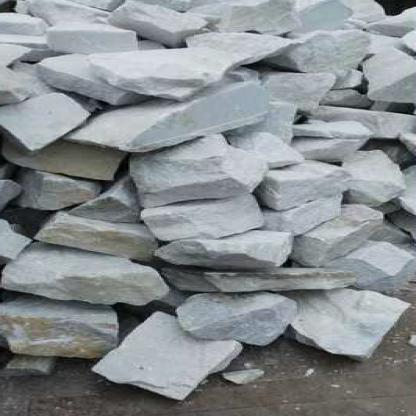Sedimentary_Limestone: (64, 78, 269, 158), (129, 183, 270, 242), (7, 253, 167, 300), (153, 295, 311, 334), (278, 207, 392, 260), (270, 24, 374, 76)
